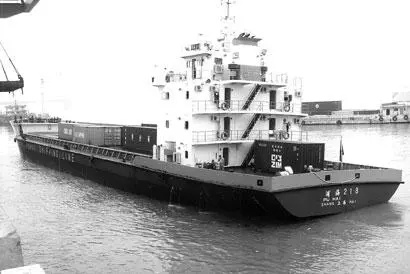Cargoship: (9, 4, 404, 210)
